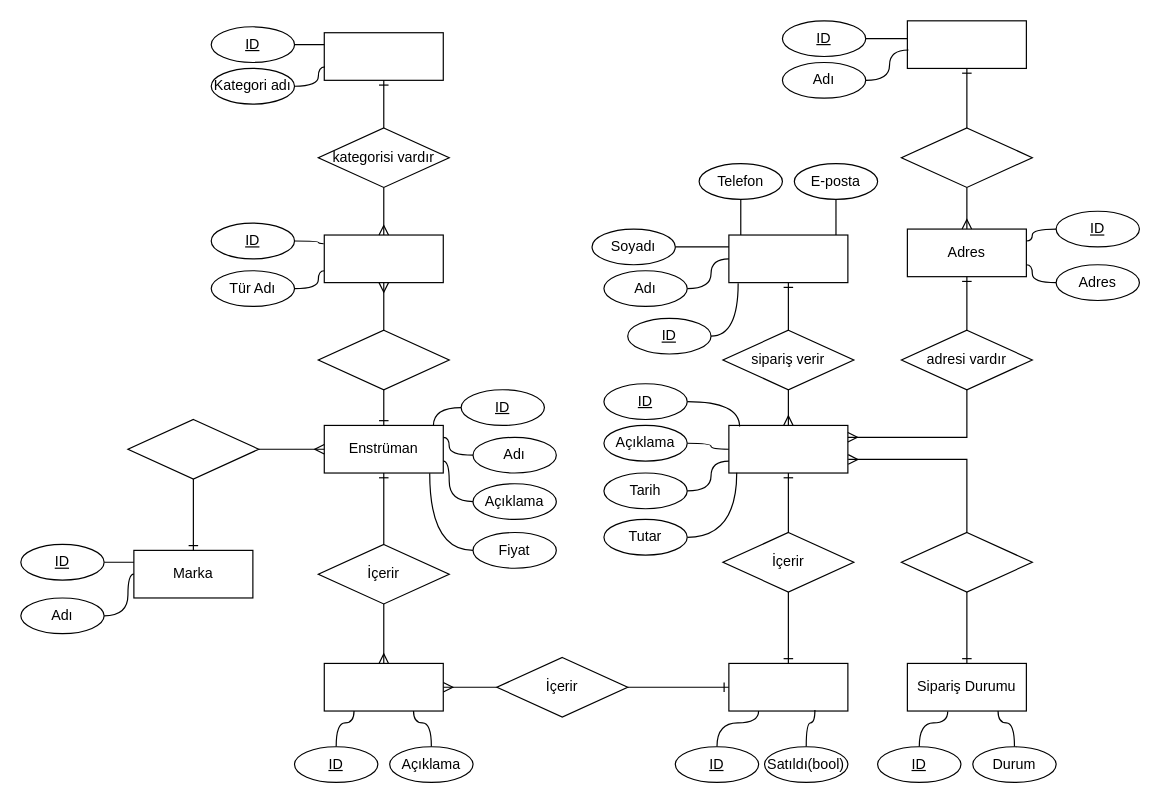
This 1160x803 diagram has some shape labels left out. The box of each missing label's shape, as (x1, y1, x2, y2) in pixels:
Durumu vardır: (900, 531, 1032, 592)
Enstrüman Türü: (323, 234, 443, 283)
içerir: (900, 127, 1032, 187)
Kategori: (323, 32, 443, 80)
markası vardır: (127, 418, 259, 479)
Müşteri: (728, 234, 848, 283)
Satılan ürün: (323, 662, 443, 711)
Sepet: (728, 662, 848, 711)
Sipariş: (728, 424, 848, 473)
türü vardır: (317, 329, 449, 390)
Şehir: (906, 20, 1026, 68)
